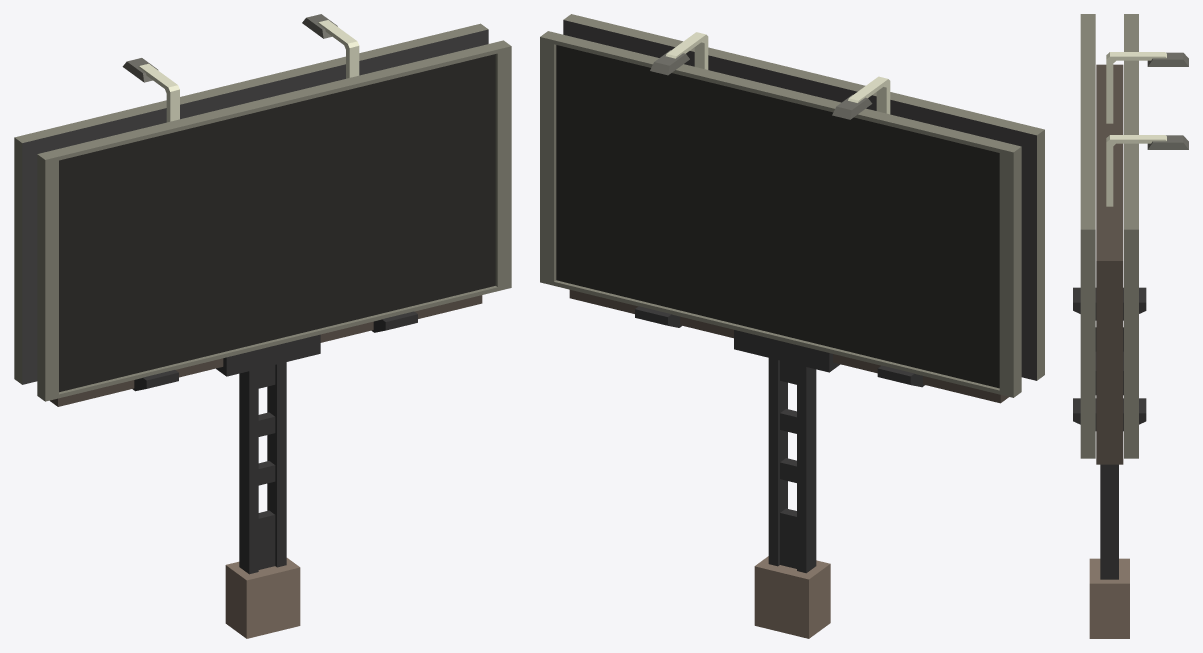
File: billboard.fbx
3 renders of one model, left to right at view 1: azimuth 30°, elevation 25°; view 2: azimuth 150°, elevation 25°; view 3: azimuth 270°, elevation 25°, orthographic. The views are drawn at different scales.
Visible parts, largest first — view 1: billboard; view 2: billboard; view 3: billboard.
Boxes of the visible parts, x1=… form: billboard: x1=14, y1=14, x2=511, y2=638; billboard: x1=540, y1=14, x2=1044, y2=638; billboard: x1=1073, y1=14, x2=1188, y2=638.
Size of the model in its own units: 1170 by 1343 by 266.
